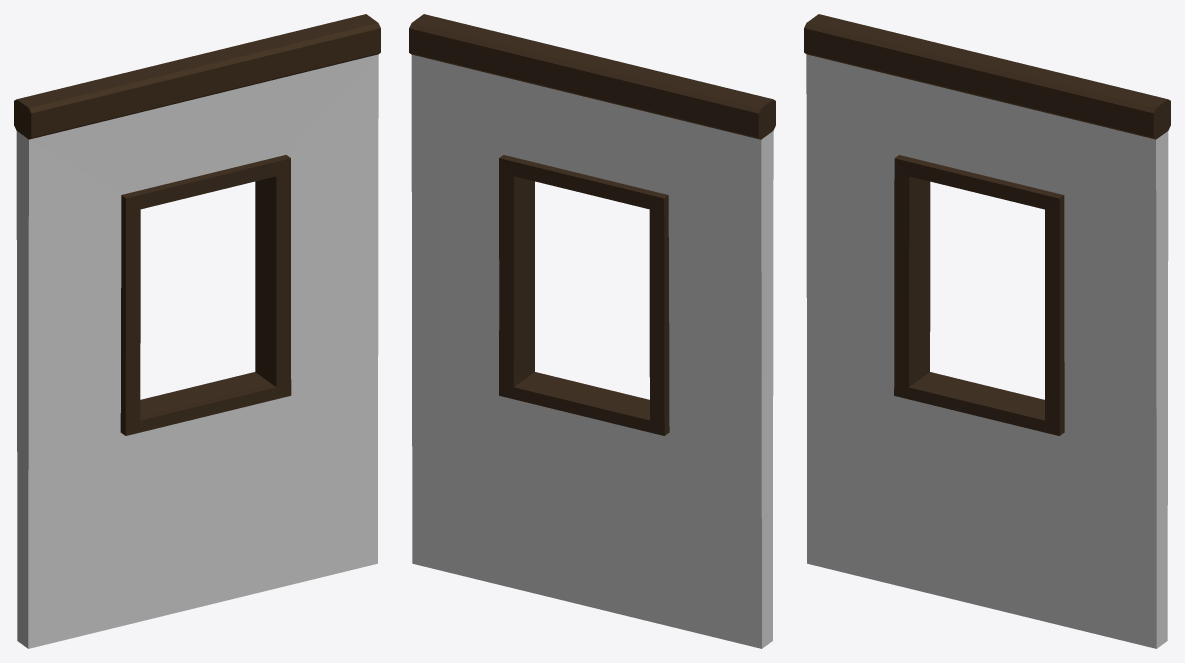
The model's file is wall_38.fbx.
The picture shows the model from 3 angles, left to right: view 1: azimuth 30°, elevation 25°; view 2: azimuth 150°, elevation 25°; view 3: azimuth 330°, elevation 25°; orthographic projection.
Visible parts, largest first — view 1: WALL_5.010; view 2: WALL_5.010; view 3: WALL_5.010.
Boxes of the visible parts, x1,y1,x2,y2 form: WALL_5.010: [14, 14, 380, 648]; WALL_5.010: [409, 14, 775, 648]; WALL_5.010: [804, 14, 1170, 648].
Size of the model in its own units: 3.26 by 4.83 by 0.3453.
